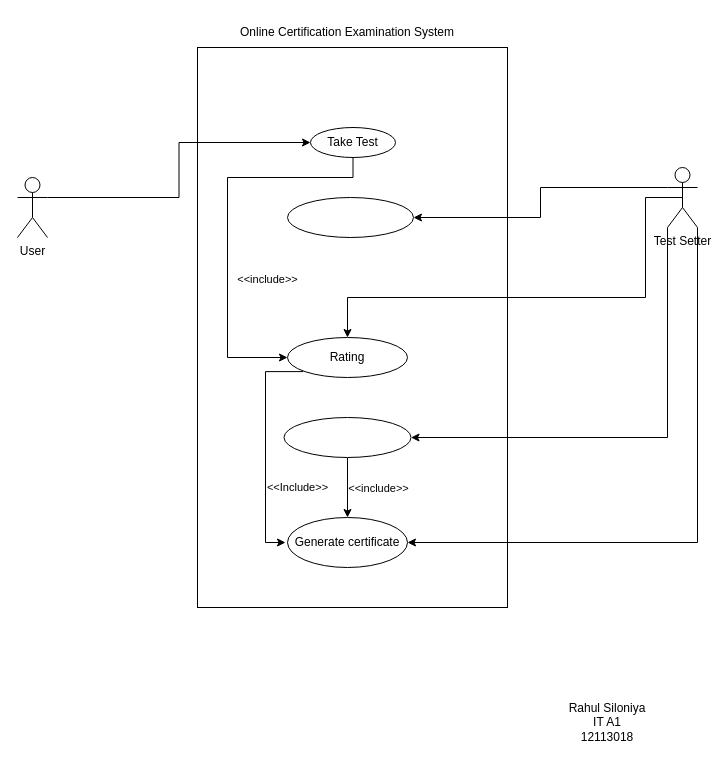
Image size: 728x764. Some labels were removed from this diagram. The centre of each missing label's shape, as x and y in pixels:
"Select questions" goes at (350,217).
"Verify user credibility" goes at (347,437).
